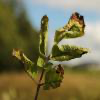Potato leaf early blight: (55, 11, 86, 44), (12, 47, 38, 80), (42, 64, 65, 91), (37, 14, 50, 55)
